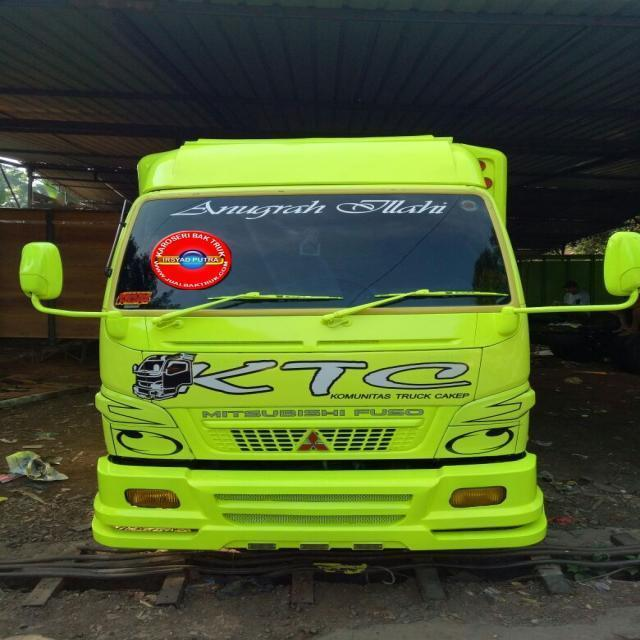truck: (8, 116, 640, 580)
